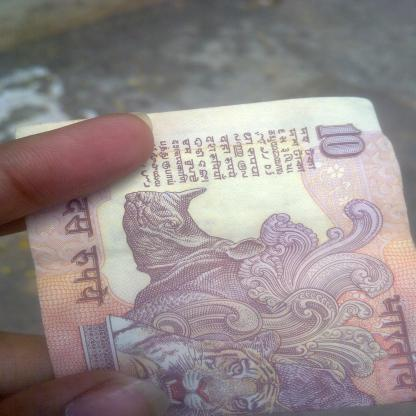Old10Back: (13, 96, 416, 416)
